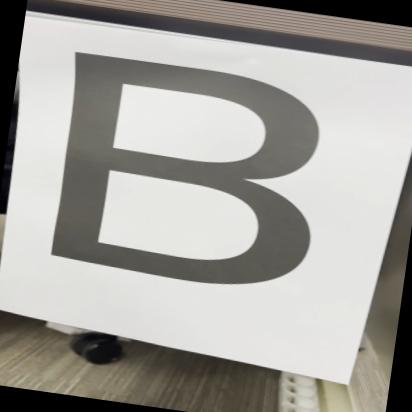seat: (23, 32, 364, 316)
